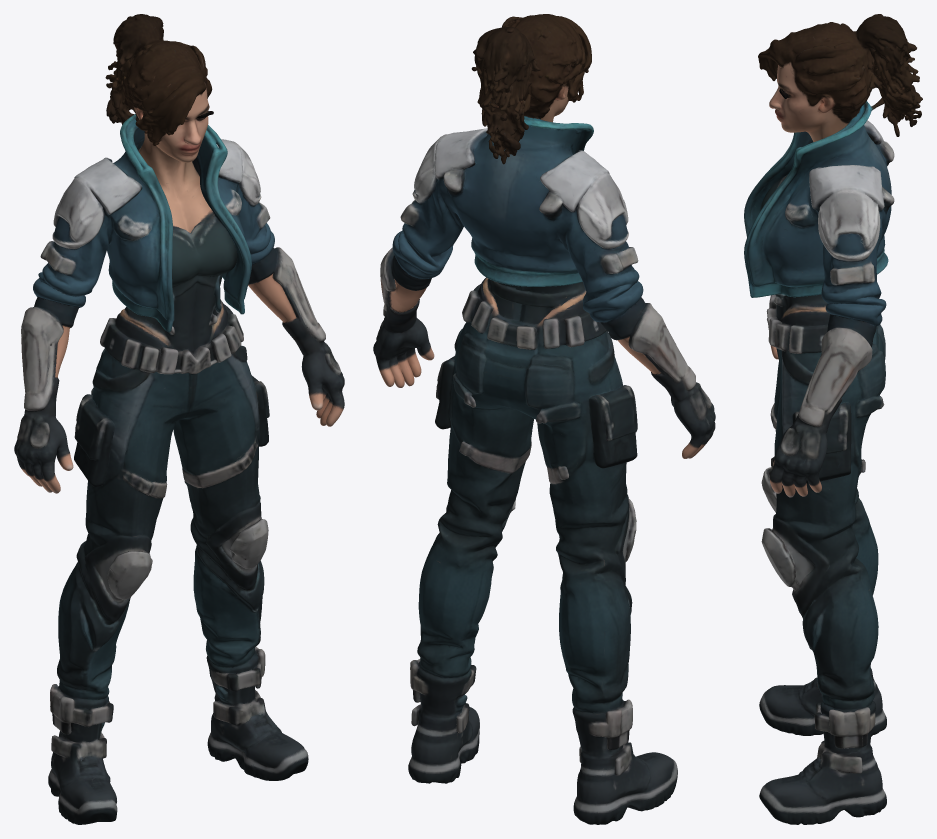
File: woman.glb
The picture shows the model from 3 angles, left to right: view 1: azimuth 30°, elevation 25°; view 2: azimuth 150°, elevation 25°; view 3: azimuth 270°, elevation 25°; orthographic projection. The views are drawn at different scales.
Bounding box in the file's own units: 0.452 × 1 × 0.2156.
Materials: 1 (1 with a texture image).
